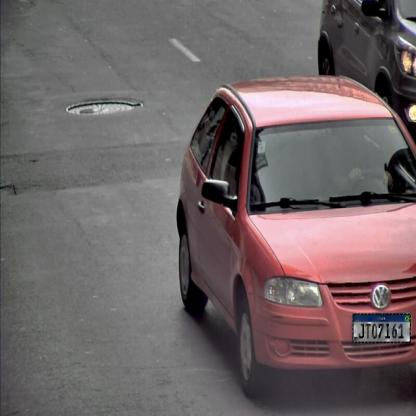PlacaM: (352, 314, 410, 344)
